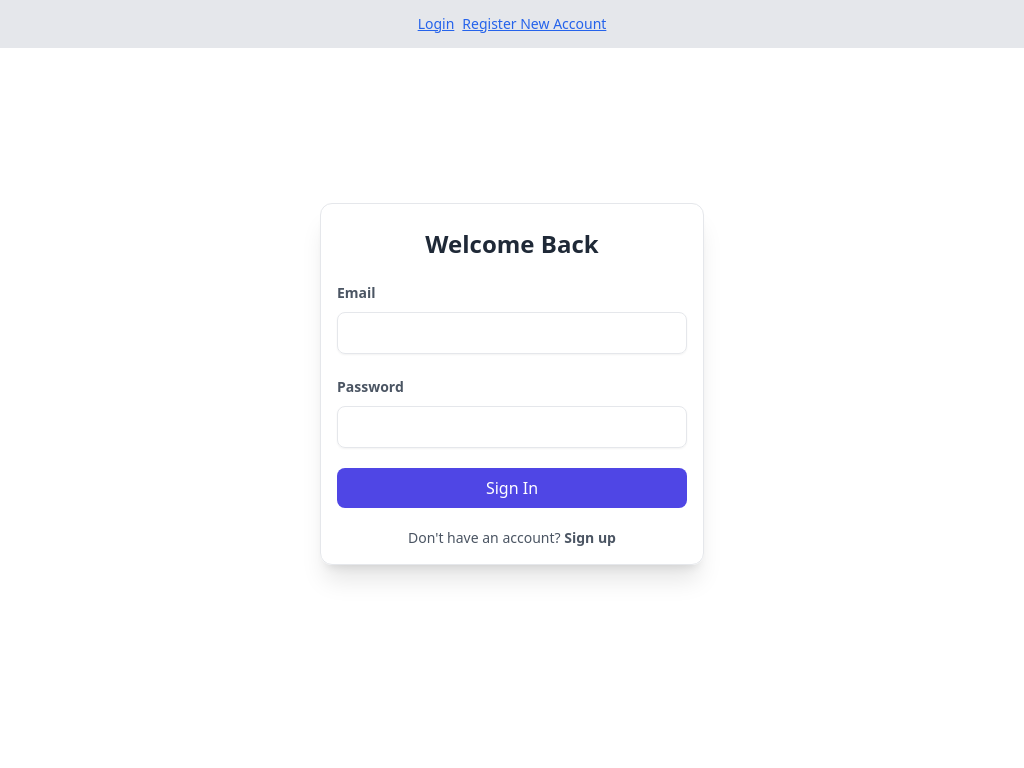
Test: Authentication Flow › Login Page › should show loading state during login attempt
Type "test@example.com" into the field at [512, 333], box [337, 312, 687, 354]
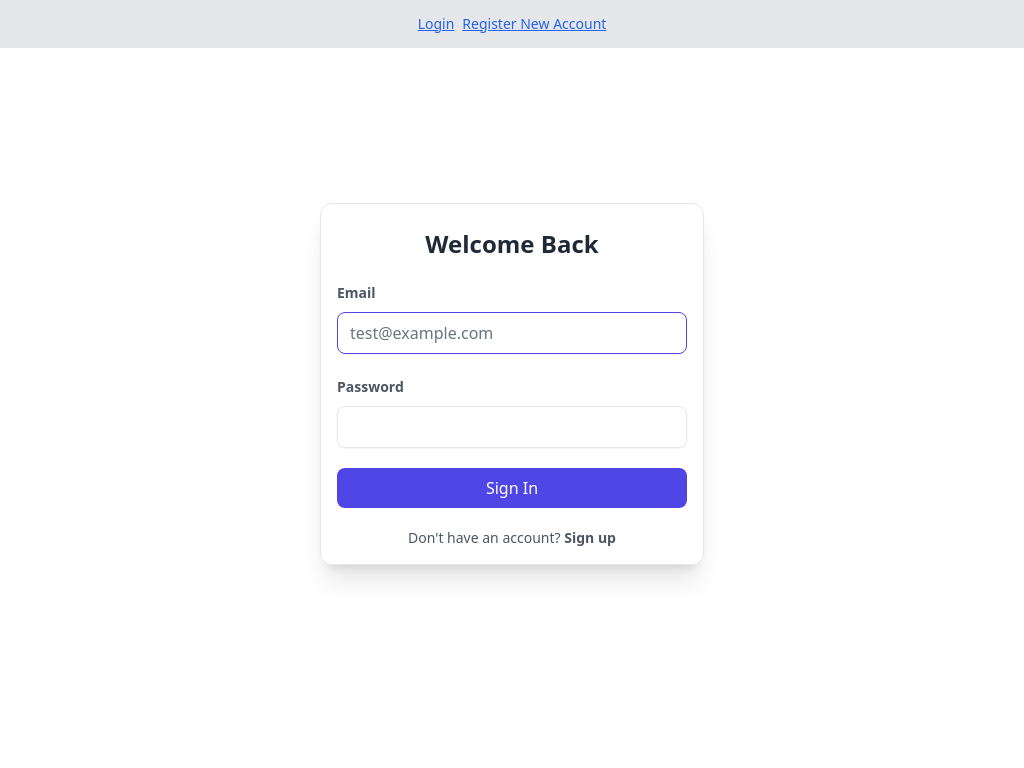
Type "password123" into the password field at [512, 427], box [337, 406, 687, 448]
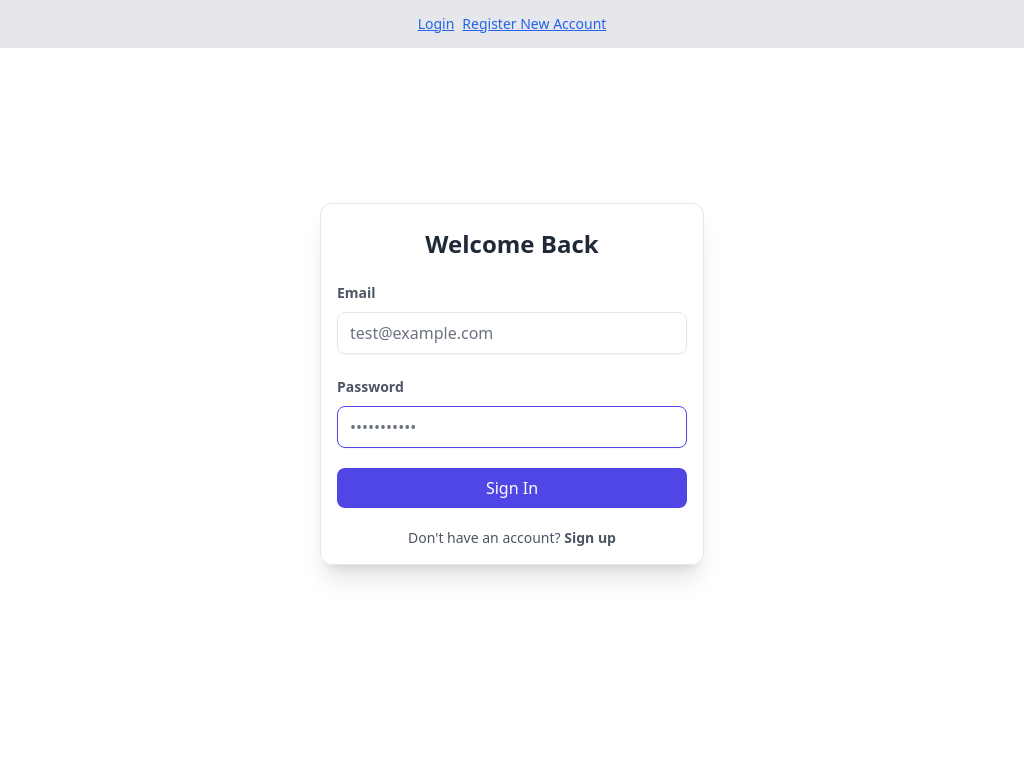
Click the submit button at [512, 488], box [337, 468, 687, 508]
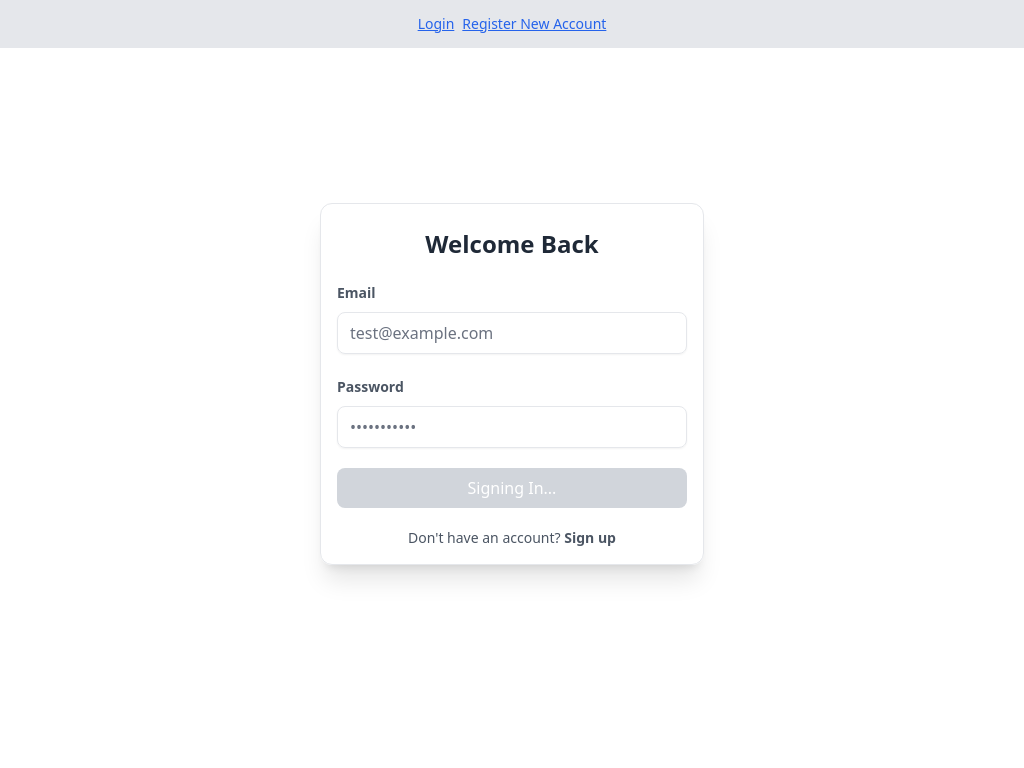
expect the submit button is disabled: met, box [337, 468, 687, 508]
expect the submit button reads "Signing In...": met, box [337, 468, 687, 508]
